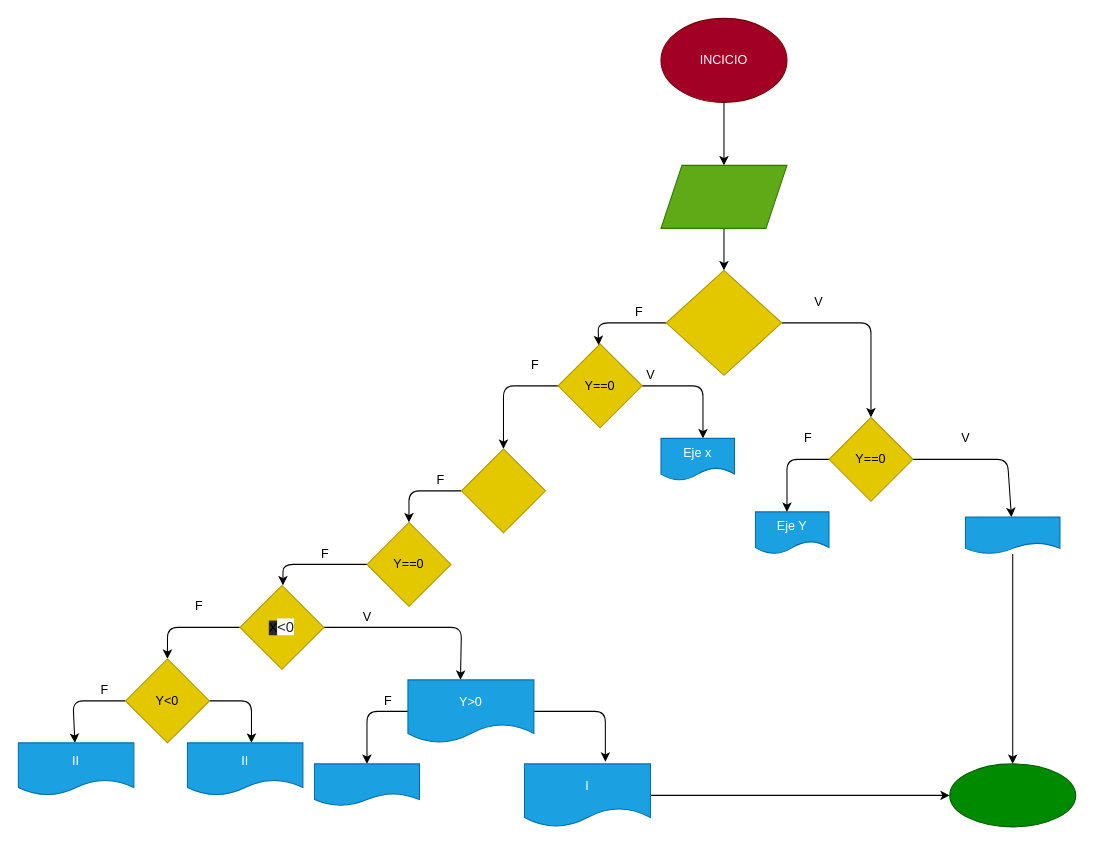
Some shapes in this 1094 by 845 pixel diagram are drawn without their labels. The shapes that lost their labels are listed below. From the top down, each one's box as (x1, y1, x2, y2) in pixels, then its label:
(660, 164, 787, 228): X.Y
(665, 269, 782, 375): X==0
(460, 448, 545, 533): X>0 and Y>0
(964, 516, 1060, 554): Origen
(313, 763, 419, 806): IV
(949, 763, 1076, 827): FIN
